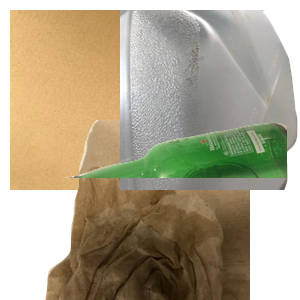cardboard: (10, 10, 250, 190)
glass: (60, 120, 300, 300)
plastic: (120, 10, 300, 190)
trash: (43, 120, 283, 300)
